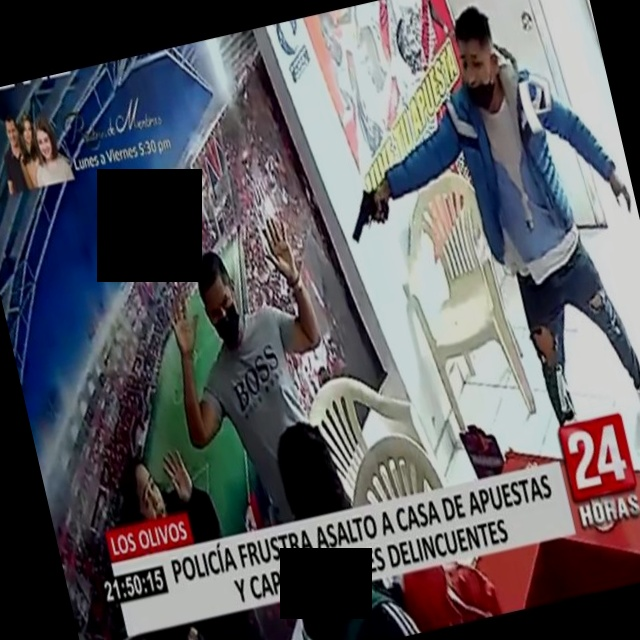gun: (332, 162, 402, 261)
